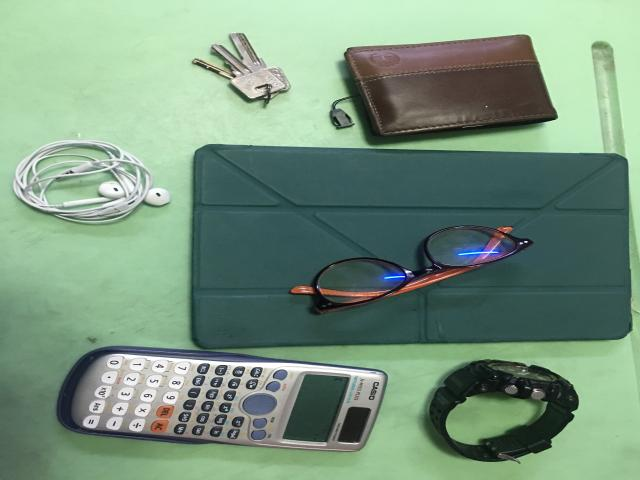Glasses: (292, 226, 532, 313)
Keys: (193, 33, 290, 101)
Wallet: (345, 35, 557, 136)
Watch: (430, 360, 578, 461)
wire: (13, 141, 168, 223)
